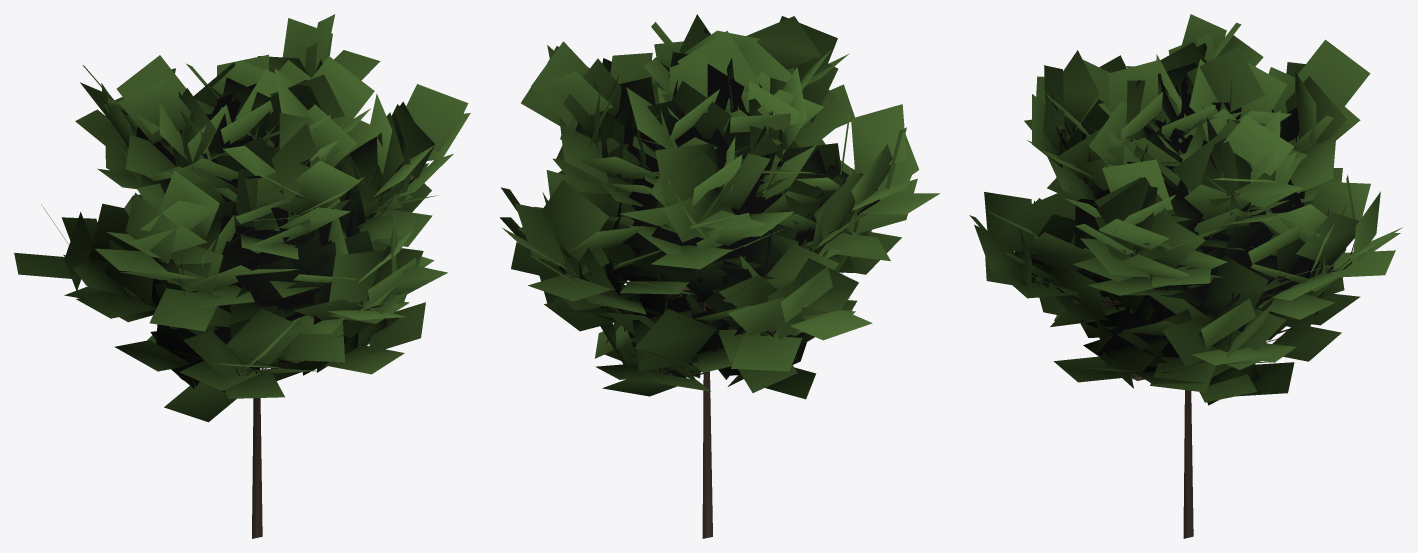
The model's file is beech.glb.
3 renders of one model, left to right at view 1: azimuth 30°, elevation 25°; view 2: azimuth 150°, elevation 25°; view 3: azimuth 270°, elevation 25°, orthographic. The views are drawn at different scales.
Visible parts, largest first — view 1: beech_leaves, beech_wood; view 2: beech_leaves, beech_wood; view 3: beech_leaves, beech_wood.
Boxes of the visible parts, <box> form: beech_leaves: <box>14,14,470,422</box>; beech_wood: <box>122,144,414,538</box>; beech_leaves: <box>500,14,940,399</box>; beech_wood: <box>546,68,889,538</box>; beech_leaves: <box>969,14,1402,405</box>; beech_wood: <box>1013,109,1354,538</box>.
Bounding box in the file's own units: 17.41 × 21.18 × 17.13.
